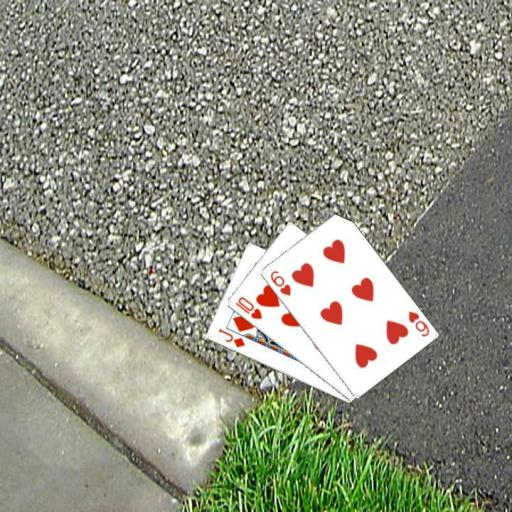10H: (232, 294, 264, 321)
6H: (267, 268, 292, 298), (405, 308, 430, 338)
JD: (215, 325, 246, 349)
